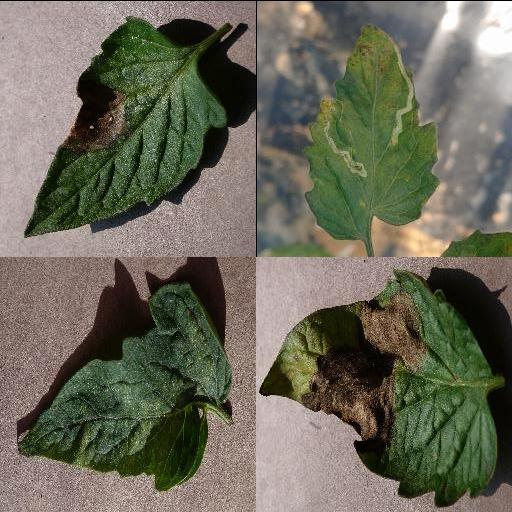Late Blight: (257, 268, 497, 506), (22, 13, 226, 239)
Leaf Miner: (300, 23, 442, 241)
Spider Mites: (17, 279, 231, 489)
